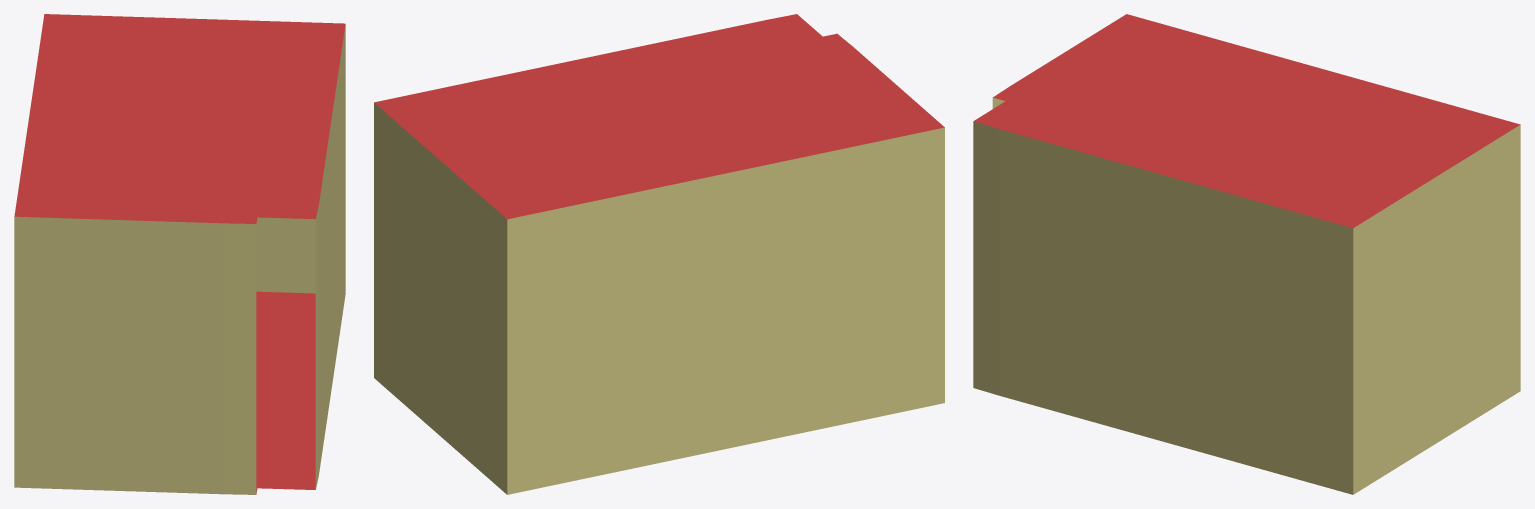
3 renders of one model, left to right at view 1: azimuth 30°, elevation 25°; view 2: azimuth 150°, elevation 25°; view 3: azimuth 270°, elevation 25°, orthographic. The views are drawn at different scales.
Parts seen in each view (by area): view 1: group_4, group_3, group_5; view 2: group_4, group_3; view 3: group_4, group_3.
Part boxes in pixels (x1=…): group_4: x1=14, y1=24, x2=345, y2=494; group_3: x1=14, y1=14, x2=345, y2=223; group_5: x1=256, y1=291, x2=315, y2=493; group_4: x1=374, y1=103, x2=944, y2=494; group_3: x1=374, y1=14, x2=944, y2=219; group_4: x1=973, y1=97, x2=1520, y2=494; group_3: x1=974, y1=14, x2=1520, y2=227.
Size of the model in its own units: 11.72 by 12.65 by 6.8.
